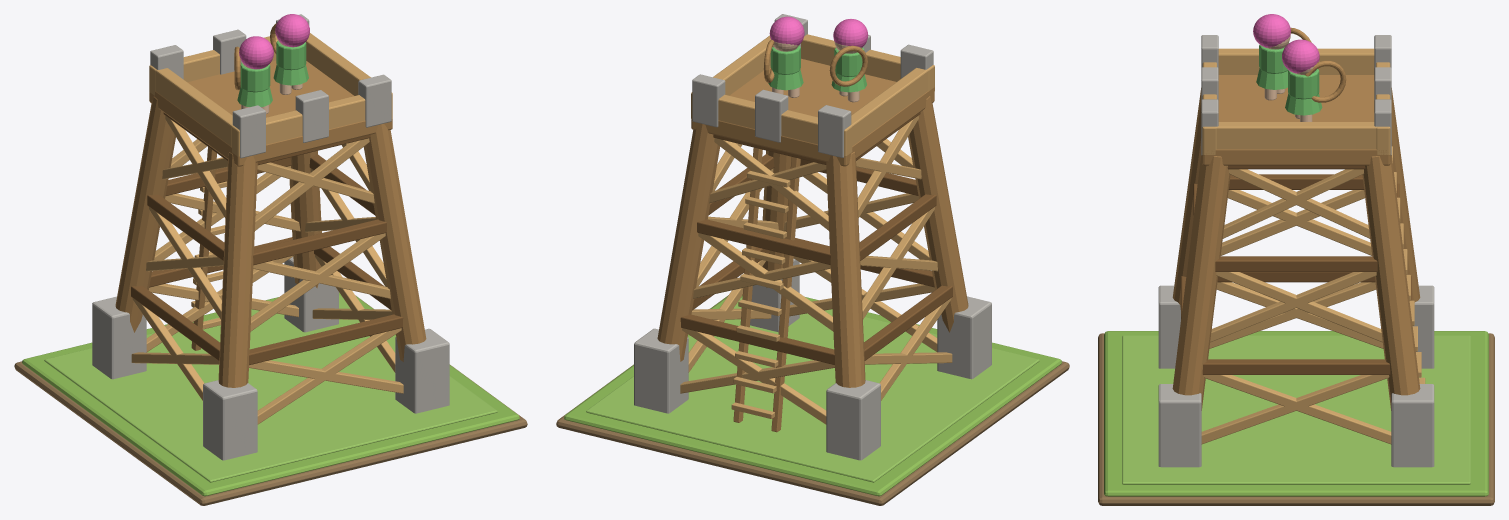
The model's file is archer_tower_lv2.glb.
3 renders of one model, left to right at view 1: azimuth 30°, elevation 25°; view 2: azimuth 150°, elevation 25°; view 3: azimuth 270°, elevation 25°, orthographic. The views are drawn at different scales.
Visible parts, largest first — view 1: Base_Inner, Base_Grass, TowerLeg_-1_-1, TowerLeg_1_-1, TopDeck, Base_Dirt, TowerLeg_-1_1, LegFooting_-1_-1, LegFooting_1_-1, LegFooting_-1_1, ParapetLR_-1, HorizBeamX_0_-1 (+42 smaller); view 2: Base_Inner, Base_Grass, TowerLeg_-1_1, TopDeck, TowerLeg_1_1, Base_Dirt, TowerLeg_-1_-1, LegFooting_-1_1, LegFooting_1_1, LegFooting_-1_-1, ParapetLR_-1, ParapetFB_1 (+42 smaller); view 3: Base_Inner, Base_Grass, TopDeck, TowerLeg_1_1, TowerLeg_1_-1, Base_Dirt, ParapetLR_1, LegFooting_1_1, LegFooting_1_-1, HorizBeamY_0_1, HorizBeamY_1_1, ParapetLR_-1 (+32 smaller).
Boxes of the visible parts, bbox=[...] form: Base_Inner: bbox=[44, 295, 497, 482]; Base_Grass: bbox=[22, 292, 519, 496]; TowerLeg_-1_-1: bbox=[218, 152, 257, 387]; TowerLeg_1_-1: bbox=[363, 123, 426, 361]; TopDeck: bbox=[149, 60, 392, 166]; Base_Dirt: bbox=[14, 295, 527, 505]; TowerLeg_-1_1: bbox=[115, 96, 175, 332]; LegFooting_-1_-1: bbox=[203, 380, 257, 460]; LegFooting_1_-1: bbox=[395, 328, 449, 413]; LegFooting_-1_1: bbox=[92, 296, 146, 379]; ParapetLR_-1: bbox=[151, 65, 239, 156]; HorizBeamX_0_-1: bbox=[249, 314, 403, 365]; Base_Inner: bbox=[586, 296, 1039, 482]; Base_Grass: bbox=[564, 295, 1061, 496]; TowerLeg_-1_1: bbox=[826, 151, 865, 387]; TopDeck: bbox=[691, 58, 934, 166]; TowerLeg_1_1: bbox=[657, 123, 719, 361]; Base_Dirt: bbox=[556, 295, 1069, 505]; TowerLeg_-1_-1: bbox=[908, 96, 968, 332]; LegFooting_-1_1: bbox=[826, 380, 880, 460]; LegFooting_1_1: bbox=[634, 328, 688, 413]; LegFooting_-1_-1: bbox=[937, 296, 991, 379]; ParapetLR_-1: bbox=[844, 68, 928, 156]; ParapetFB_1: bbox=[691, 92, 852, 156]; Base_Inner: bbox=[1122, 335, 1470, 484]; Base_Grass: bbox=[1104, 331, 1488, 496]; TopDeck: bbox=[1202, 75, 1390, 165]; TowerLeg_1_1: bbox=[1362, 155, 1420, 410]; TowerLeg_1_-1: bbox=[1172, 155, 1230, 410]; Base_Dirt: bbox=[1098, 333, 1494, 505]; ParapetLR_1: bbox=[1202, 122, 1390, 154]; LegFooting_1_1: bbox=[1391, 384, 1434, 467]; LegFooting_1_-1: bbox=[1158, 384, 1201, 467]; HorizBeamY_0_1: bbox=[1202, 359, 1390, 374]; HorizBeamY_1_1: bbox=[1215, 256, 1377, 271]; ParapetLR_-1: bbox=[1218, 48, 1374, 74].
Bounding box in the file's own units: 2.76 × 3.03 × 2.76.
